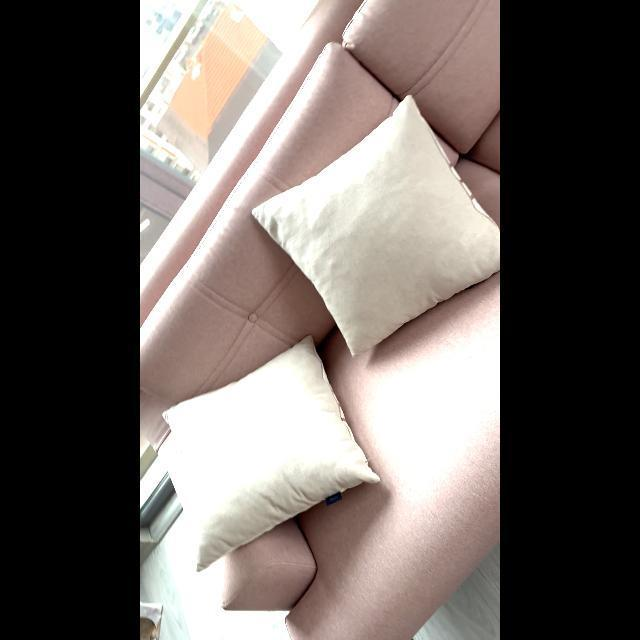throw pillow: (260, 82, 500, 346), (153, 330, 380, 566)
